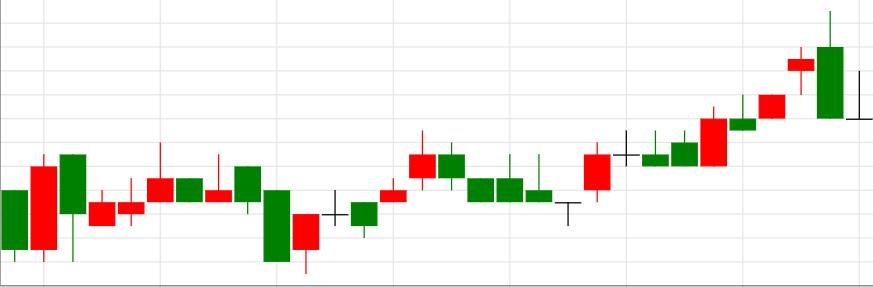bearish_engulfing_fall: (554, 11, 843, 226)
